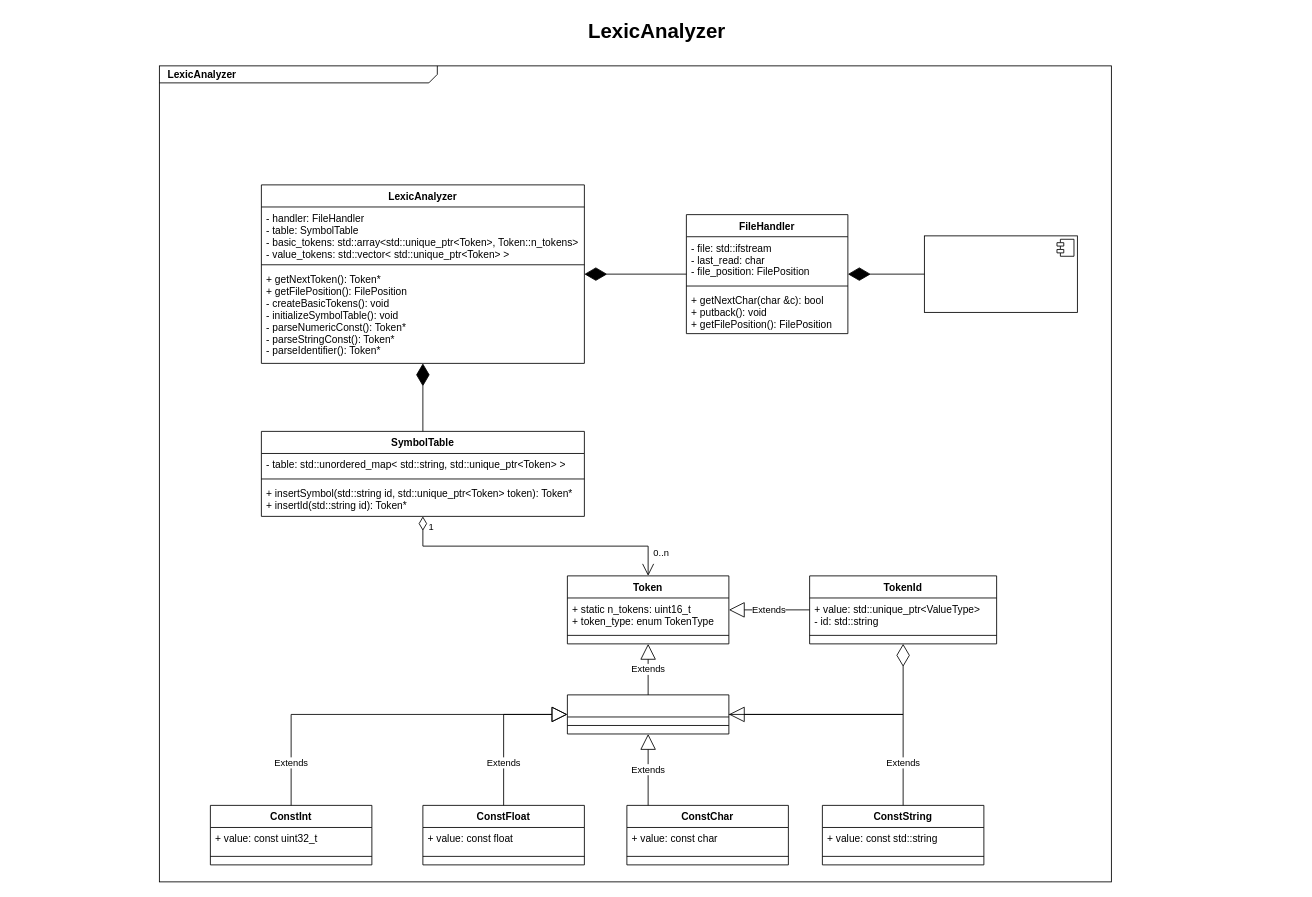
This 1312x897 diagram has some shape labels left out. Here are the shapes that lost their labels. From the top down, the centre of each, then its label:
[1000,273]: FilePosition + line_number: uint16_t + column_number: uint16_t
[648,714]: ValueType
